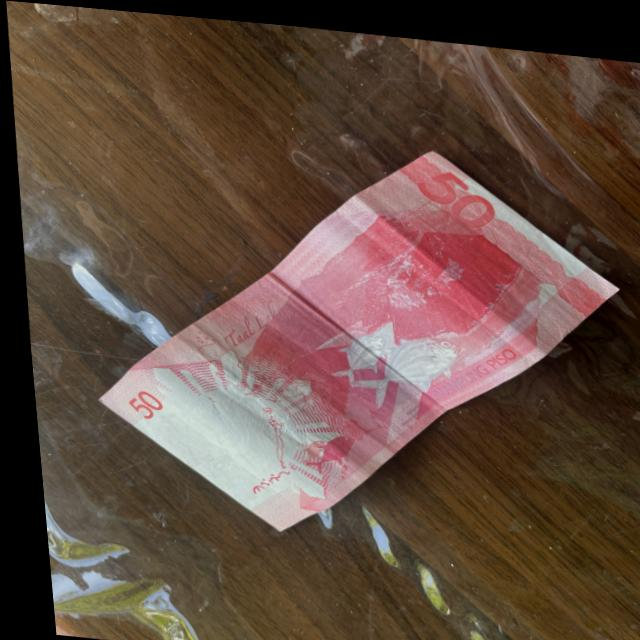50_maliputo: (320, 306, 470, 410)
50_maliputo_watermark: (284, 418, 355, 474)
value_watermark: (189, 443, 226, 473)
